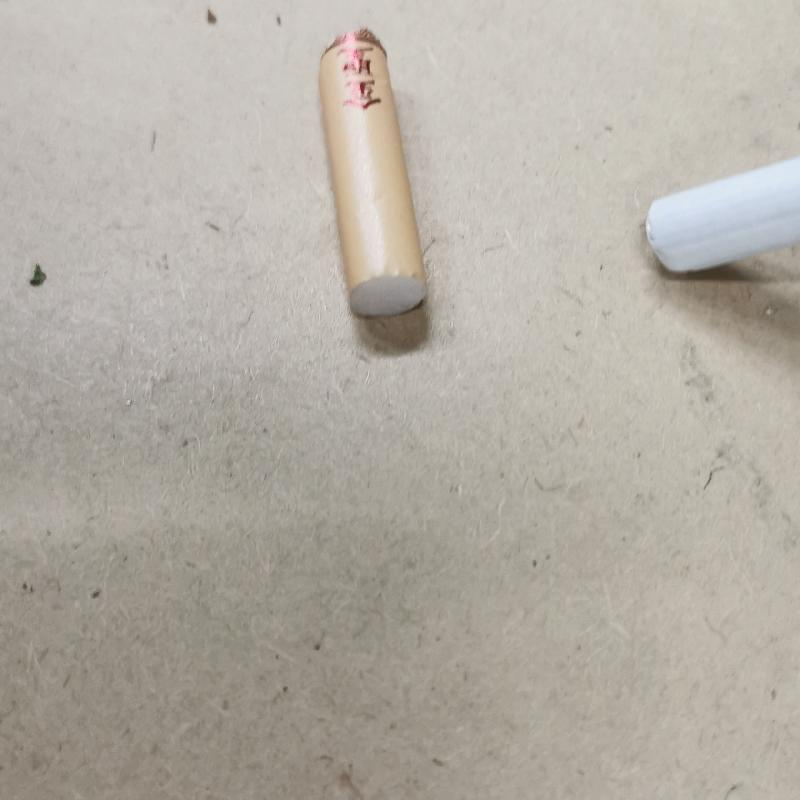cigarette: (306, 35, 430, 314), (632, 158, 800, 289)
